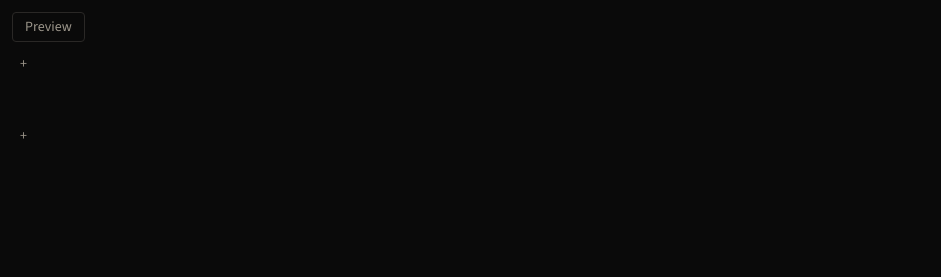
Test: BlockEditor › inserting a separator block seeds empty content and renders no editable field
Click the button named "Insert block".
click(24, 64)  # box x1=12 y1=50 x2=35 y2=78
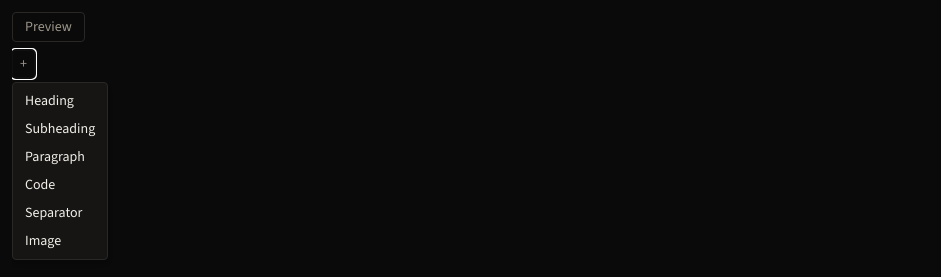
Click the button "Separator".
click(60, 213)  # box x1=13 y1=199 x2=107 y2=227
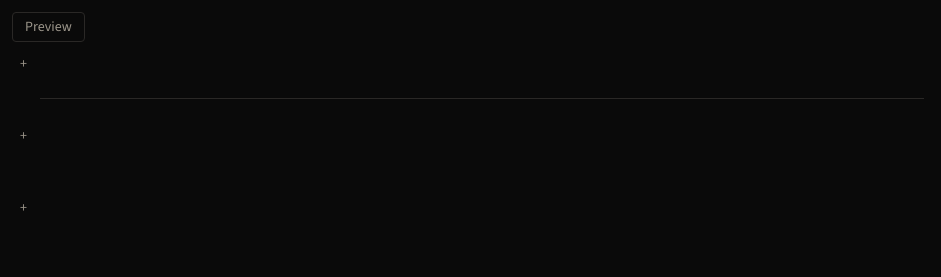
expect the button labelled "Code" is gone: met
